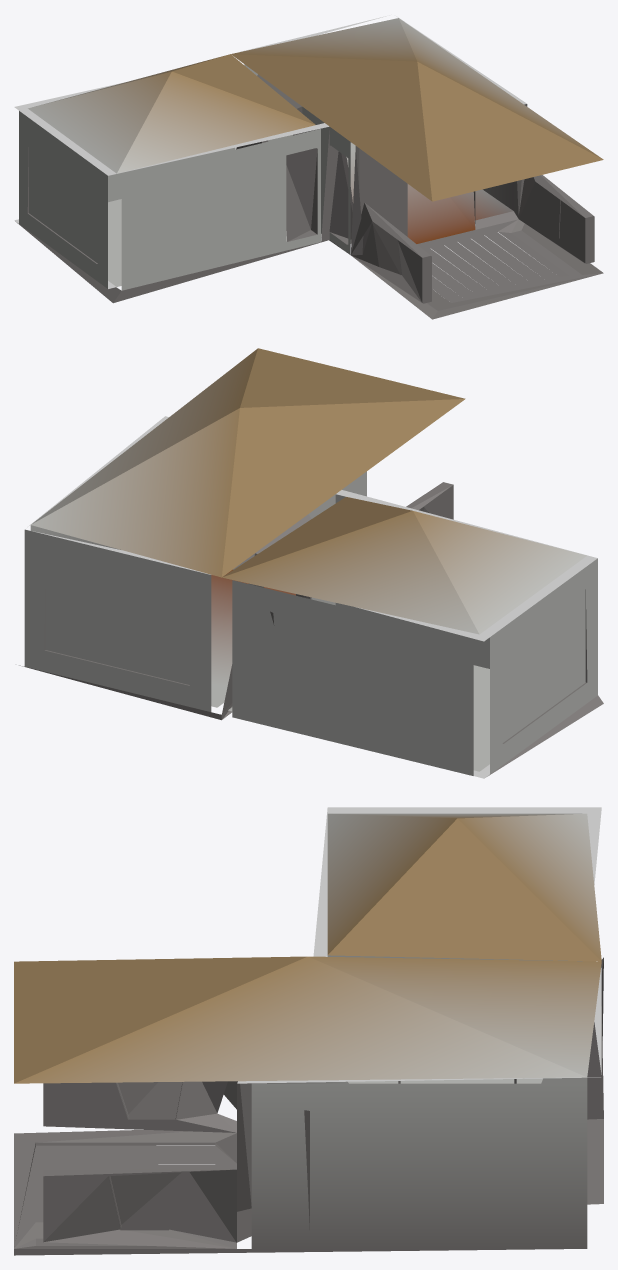
Rendered from pier-hut.zfix-v6.lod2.glb.
3 views of the same model, one above another, from view 1: azimuth 30°, elevation 25°; view 2: azimuth 150°, elevation 25°; view 3: azimuth 270°, elevation 25° (orthographic). The views are drawn at different scales.
Parts seen in each view (by area): view 1: Material2; view 2: Material2; view 3: Material2.
Boxes of the visible parts, <box> form: Material2: <box>14,15,603,319</box>; Material2: <box>19,348,603,778</box>; Material2: <box>14,807,603,1255</box>.
Bounding box in the file's own units: 12 × 4.96 × 10.76.
